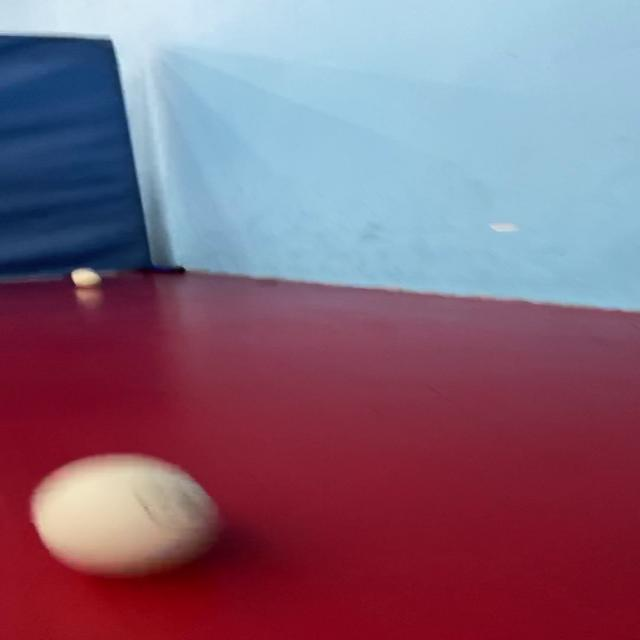ping-pong-ball: (17, 444, 240, 600), (57, 260, 106, 292)
